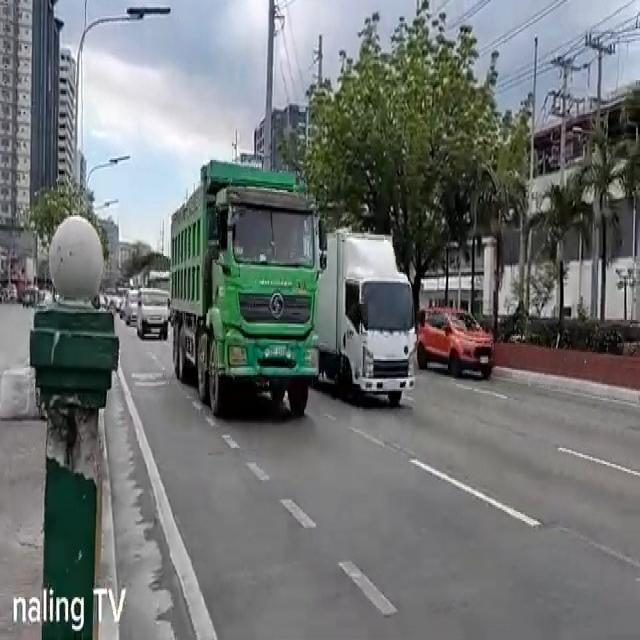car: (418, 304, 493, 380), (136, 288, 170, 340)
truck: (170, 158, 328, 422), (313, 227, 417, 406)
